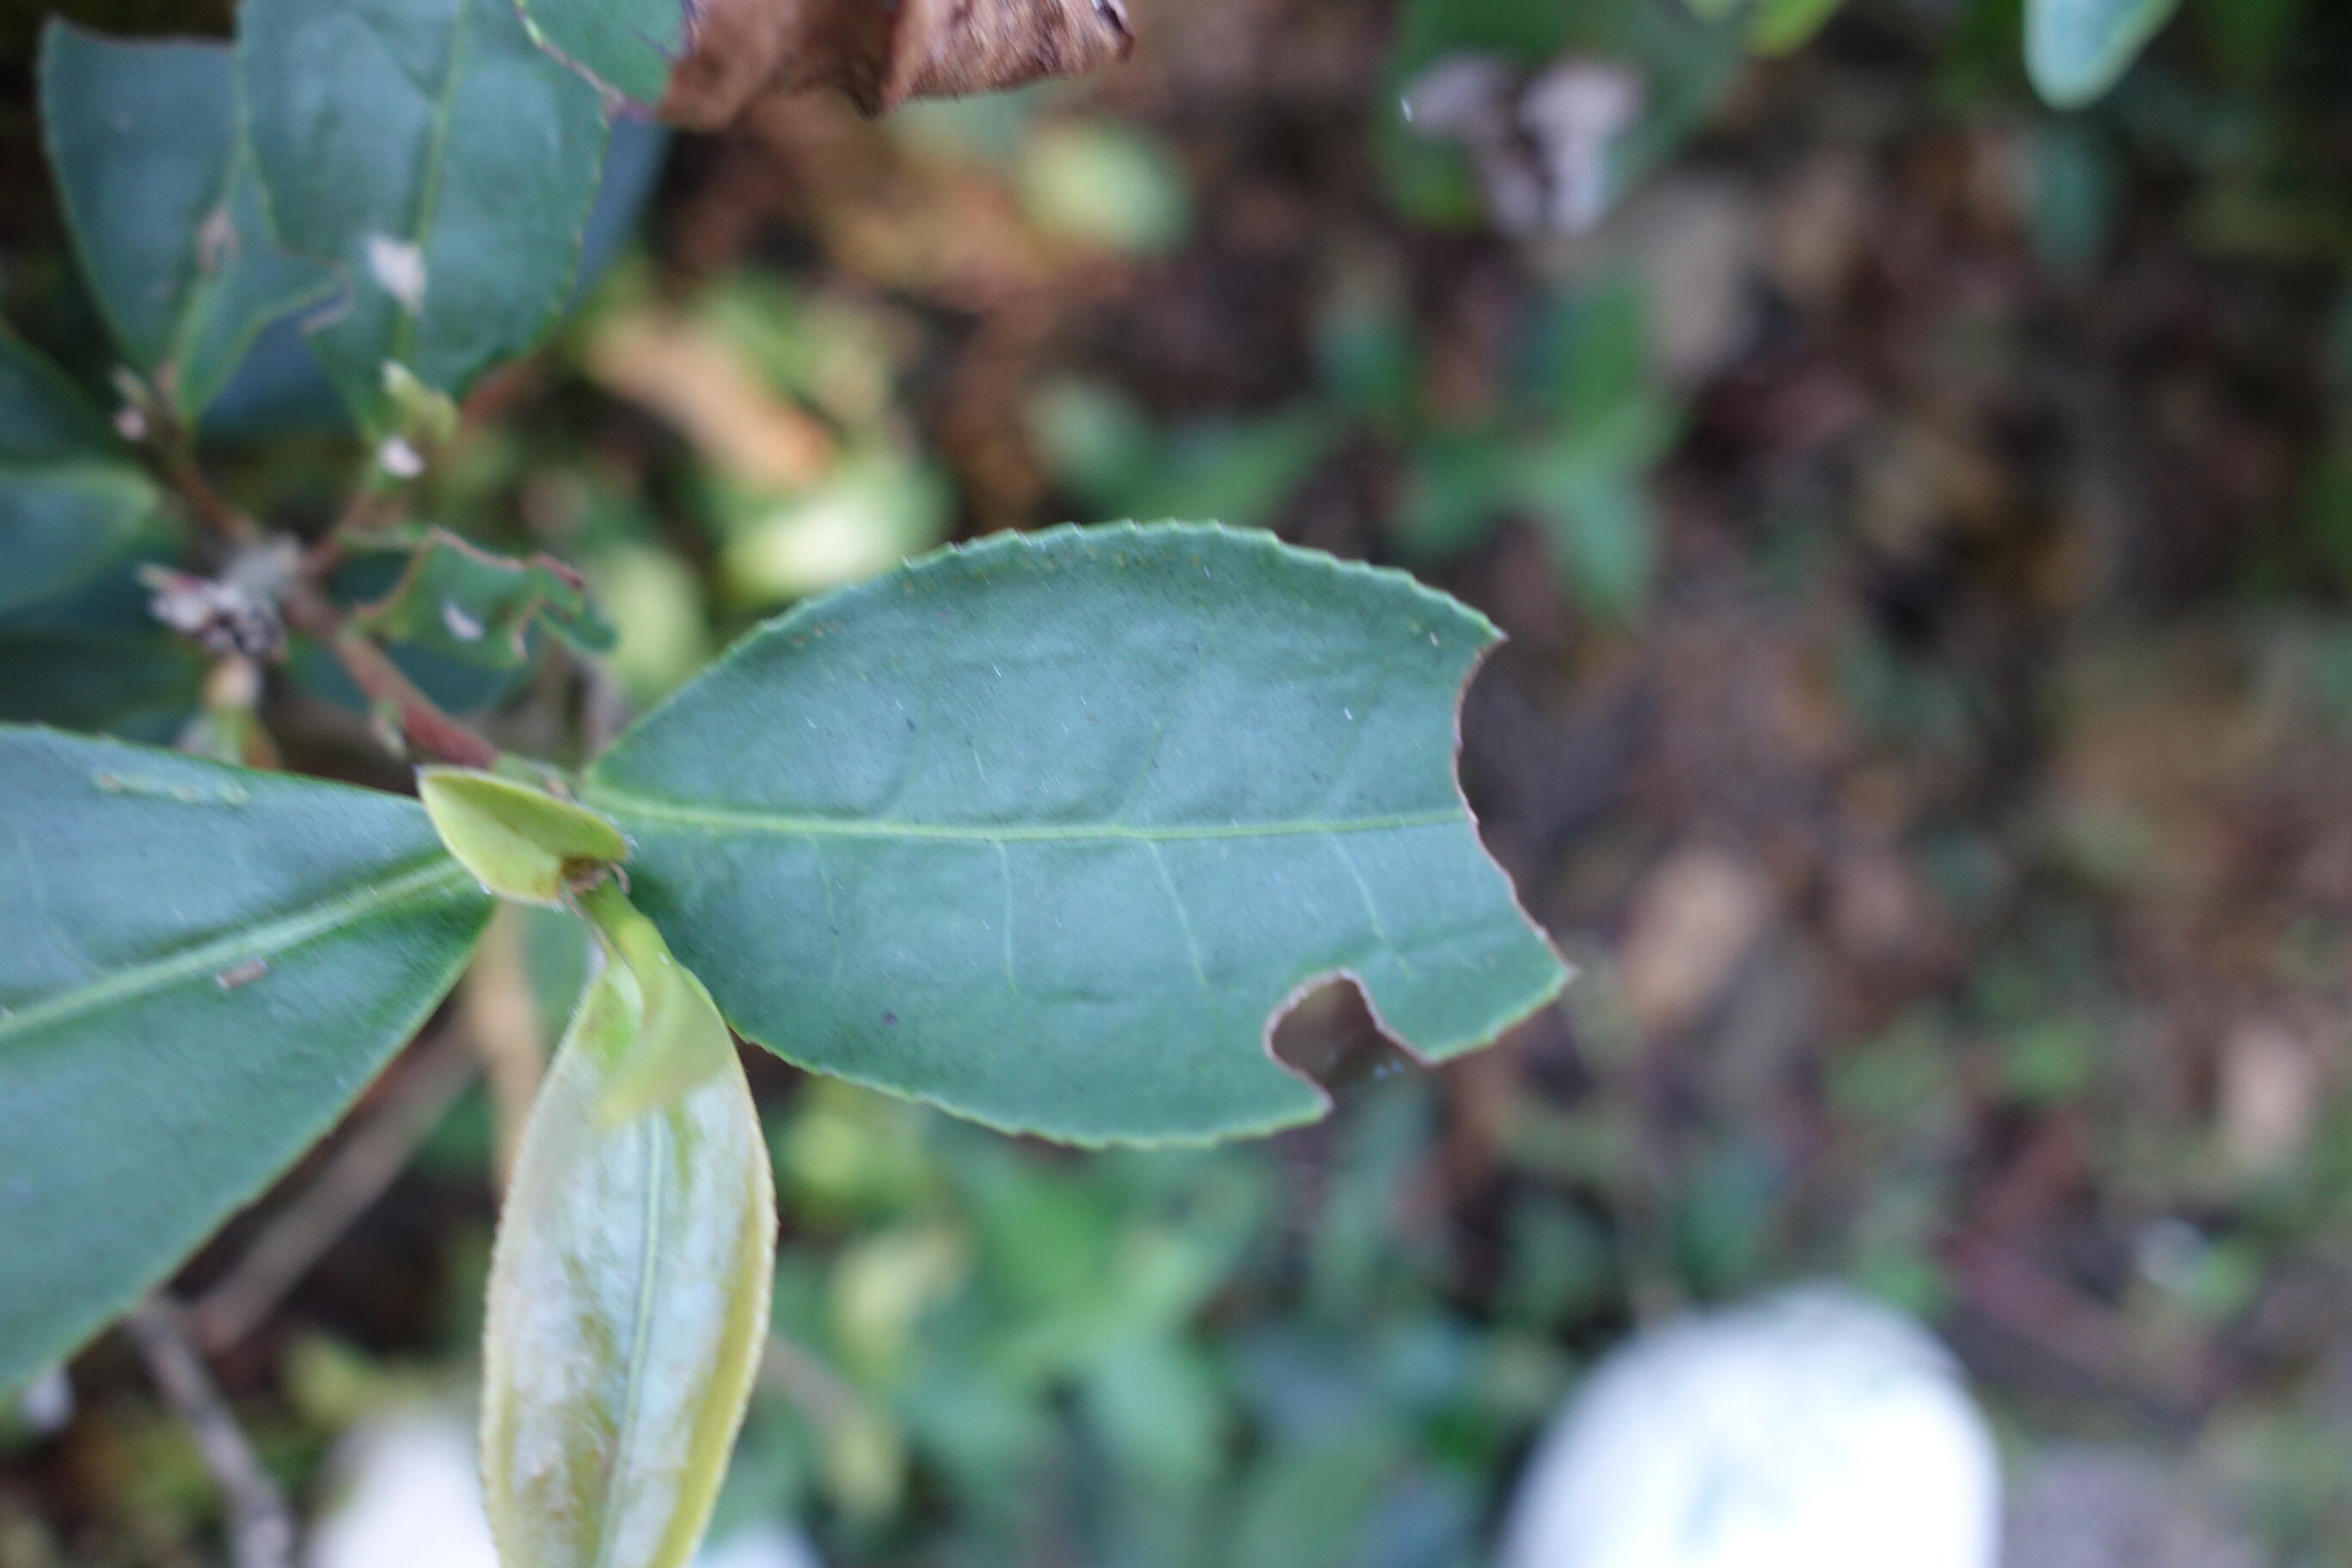chihuo_high: (553, 514, 1577, 1139)
tanju_low: (472, 968, 779, 1568)
